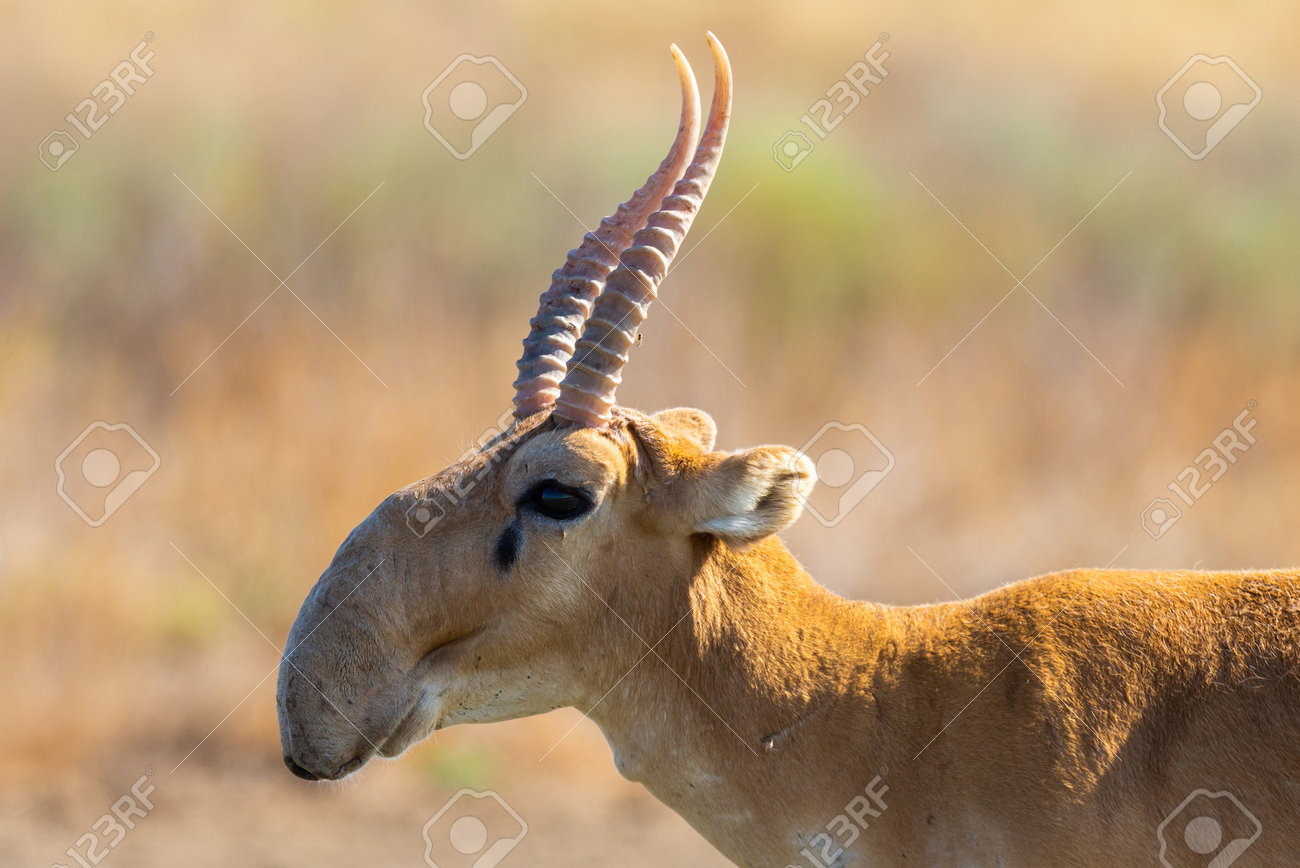saiga: (275, 26, 1300, 868)
